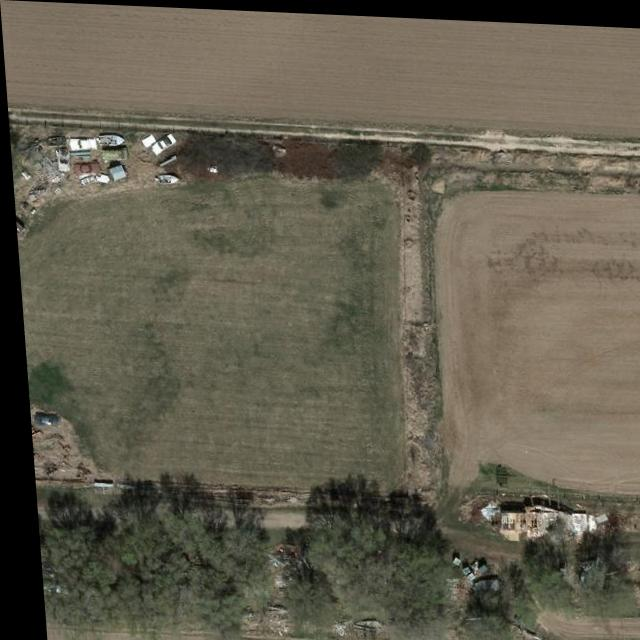vehicle: (148, 132, 176, 157), (69, 157, 101, 177), (97, 144, 129, 164), (27, 410, 55, 429), (66, 137, 99, 150), (52, 149, 69, 173)
